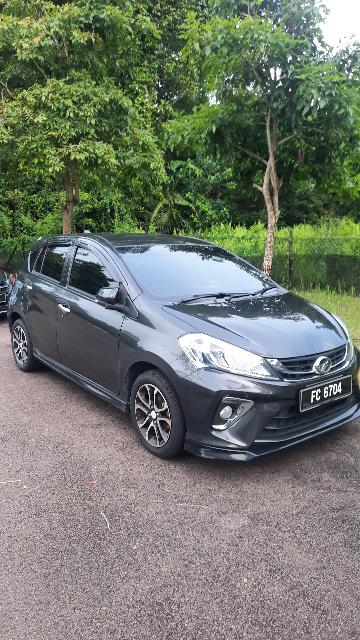License_Plate: (296, 371, 360, 419)
car: (7, 229, 360, 466)
